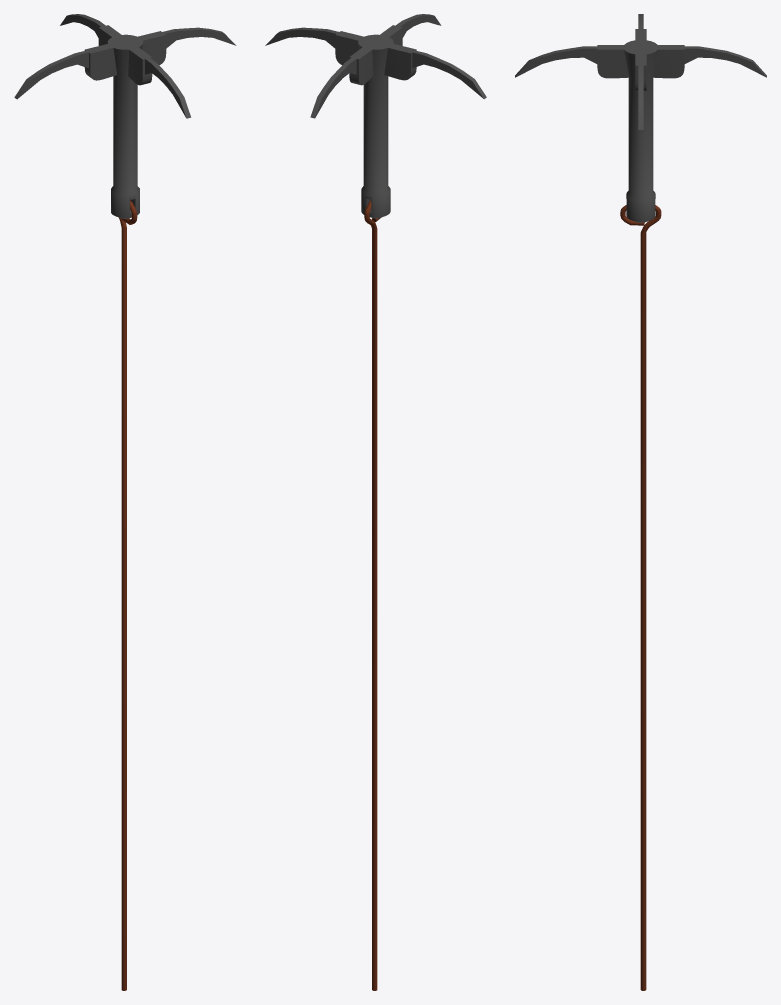
File: Grappling Hook - Extended.FBX
3 views of the same model, side by side, from view 1: azimuth 30°, elevation 25°; view 2: azimuth 150°, elevation 25°; view 3: azimuth 270°, elevation 25° (orthographic).
Visible parts, largest first — view 1: grappling_hook_extended; view 2: grappling_hook_extended; view 3: grappling_hook_extended.
Boxes of the visible parts, left/top/right/bottom form: grappling_hook_extended: left=14, top=14, right=236, bottom=990; grappling_hook_extended: left=265, top=14, right=486, bottom=990; grappling_hook_extended: left=515, top=14, right=766, bottom=990.
Bounding box in the file's own units: 404 × 1666 × 404.
